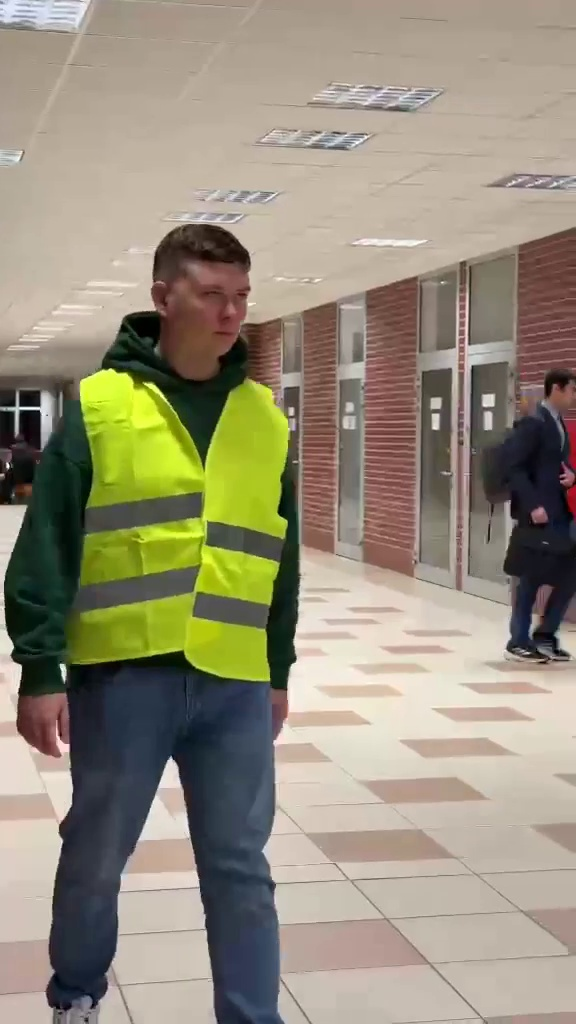no vest: (477, 355, 576, 660)
vest: (24, 226, 295, 1010)
